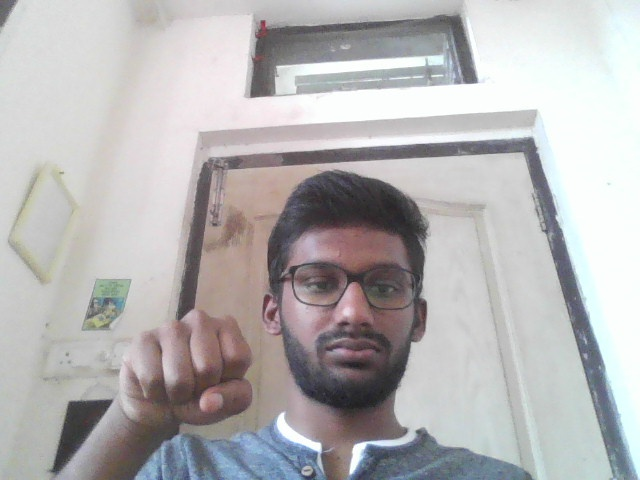No: (115, 306, 255, 428)
